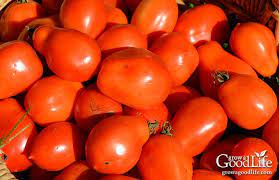tomato: (95, 49, 169, 109), (35, 22, 99, 84), (213, 76, 267, 130), (84, 117, 130, 172), (171, 99, 218, 152), (25, 75, 77, 118)
